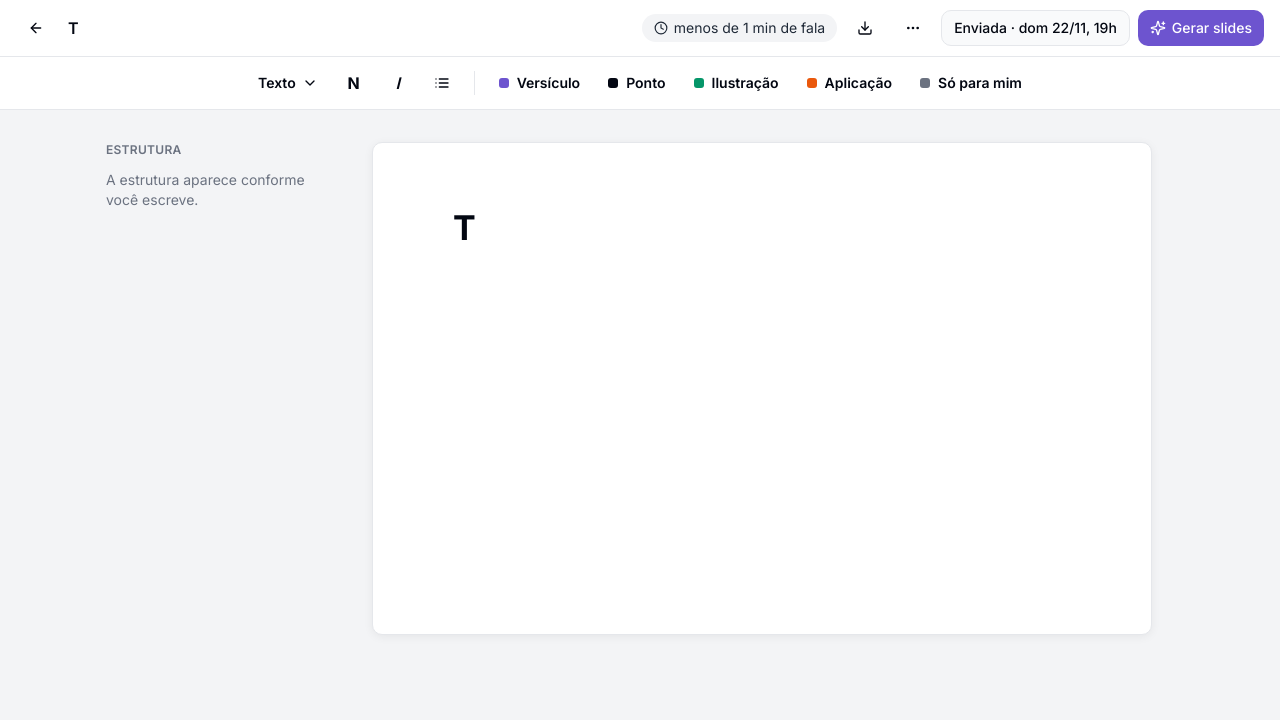
Test: SermonEditorPage › sem slides e enviada: a etiqueta Enviada abre o mesmo envio (mudar ou cancelar)
Step 1. Click the button "Enviada · dom 22/11, 19h" → {"x": 1035, "y": 28}, box [941,10,1130,46]
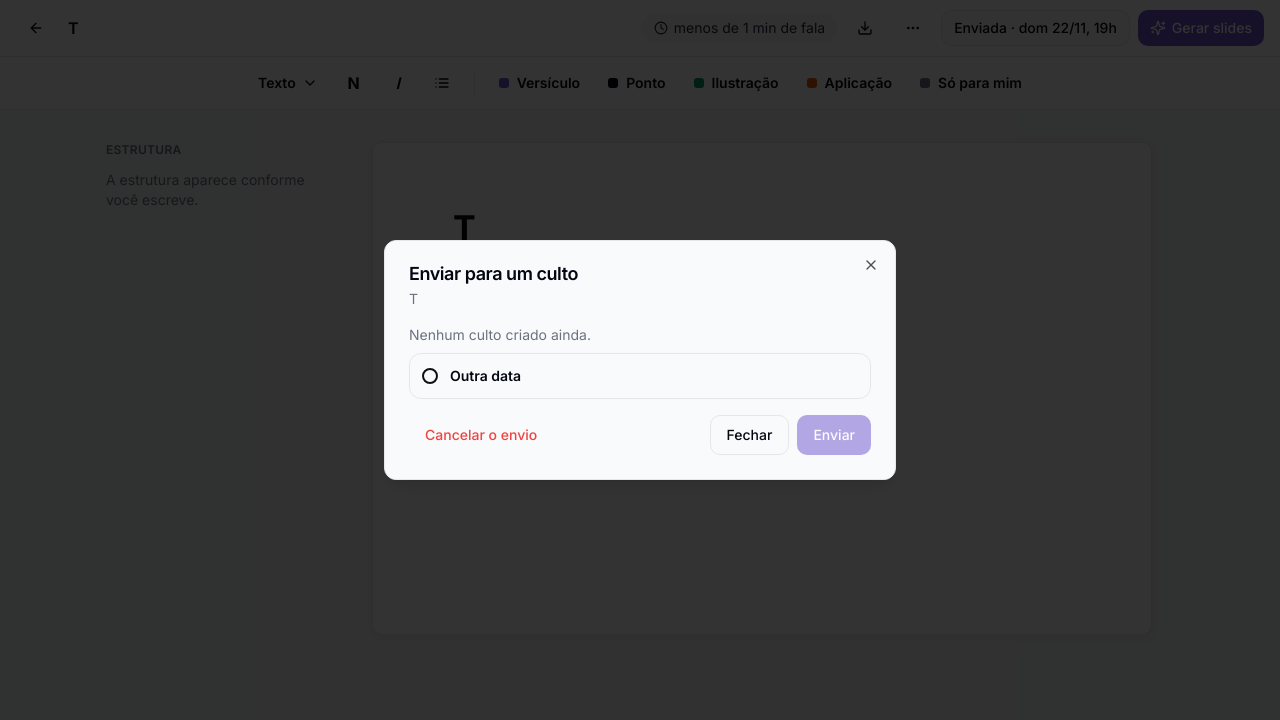
Now the dialog "Enviar para um culto" shows "Cancelar o envio", box [409,415,553,455]
